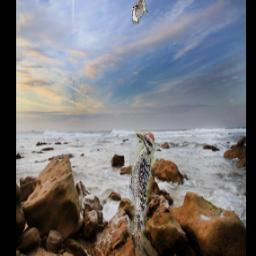Cuckoo: (132, 0, 148, 25)
Woodpecker: (129, 131, 154, 256)
